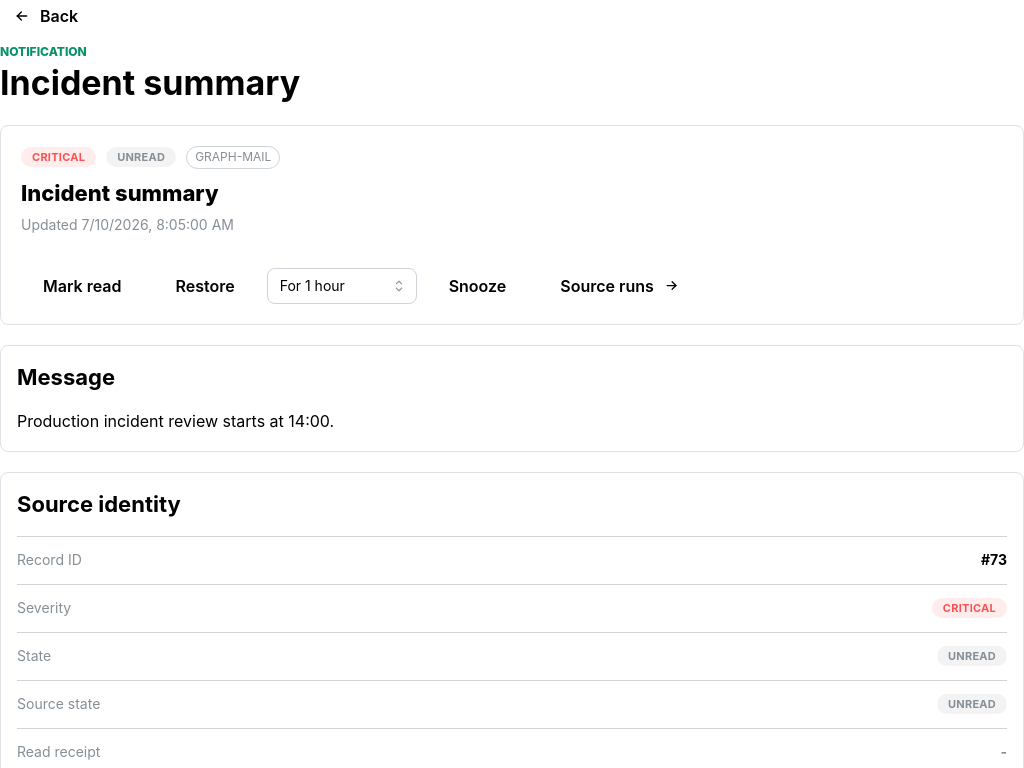
it: NotificationDetailView actions › restores a dismissed notification loaded directly from its detail URL
Click the button "Restore": (205, 286) x1=154 y1=268 x2=257 y2=304
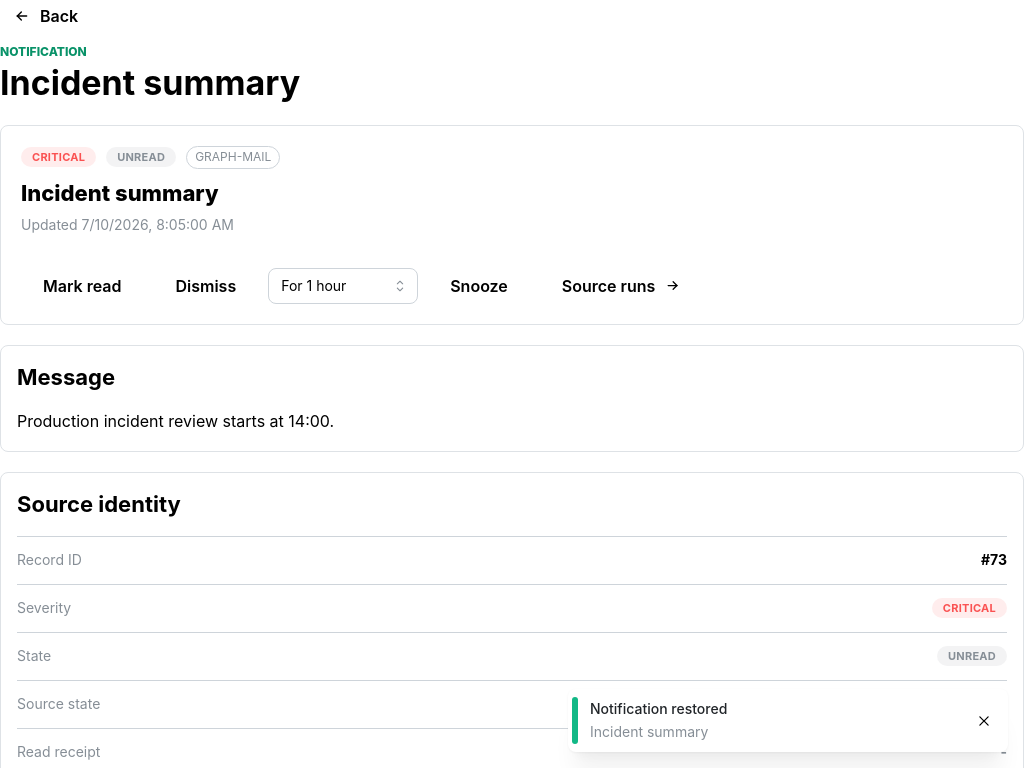
Check: the button "Dismiss" is shown, box x1=154 y1=268 x2=258 y2=304
